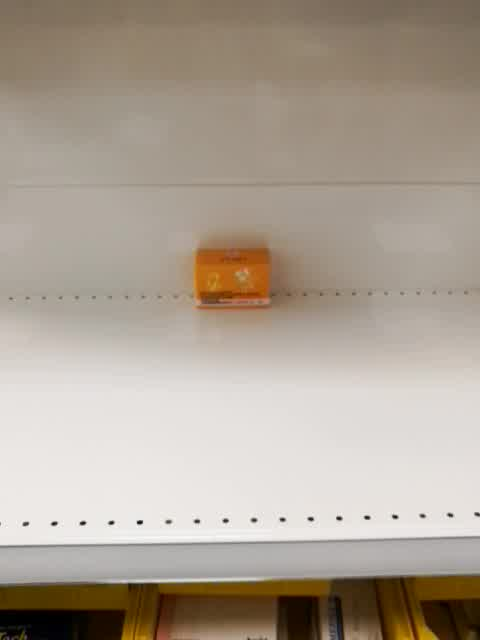jasminetea: (193, 246, 273, 311)
